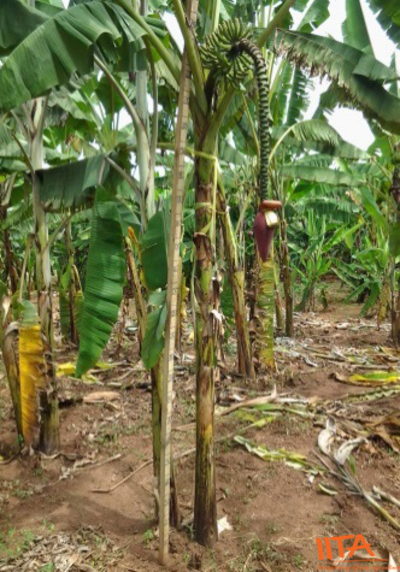bananaHand: (194, 16, 272, 90)
